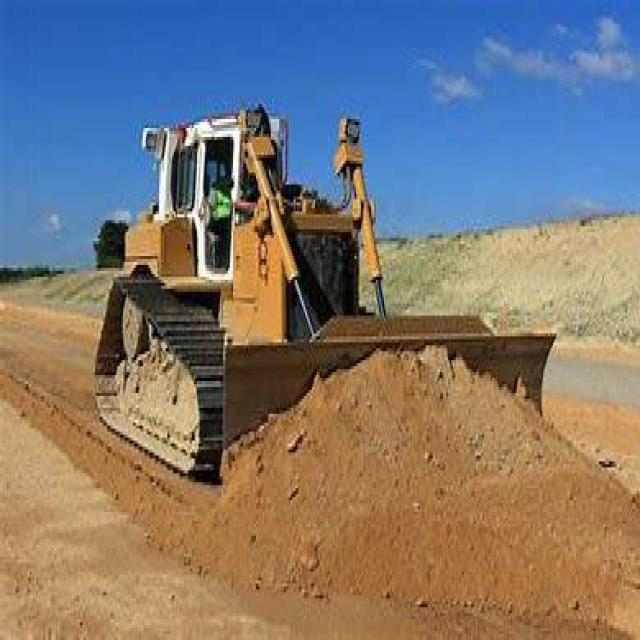buldozerpayloadergrader: (90, 95, 561, 578)
